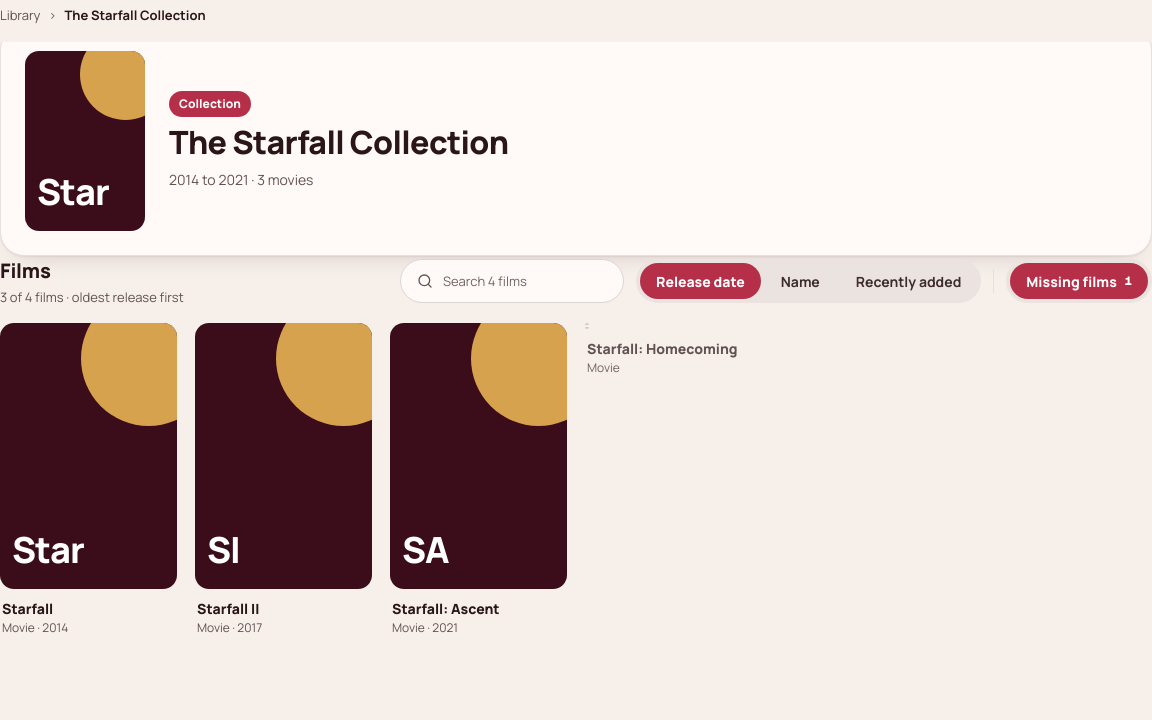
Test: FranchisePage › says when TMDB has no synopsis of a film it lacks
Click the button with aria-label "Starfall: Homecoming: coming" at (674, 350), box [585,323,762,377]
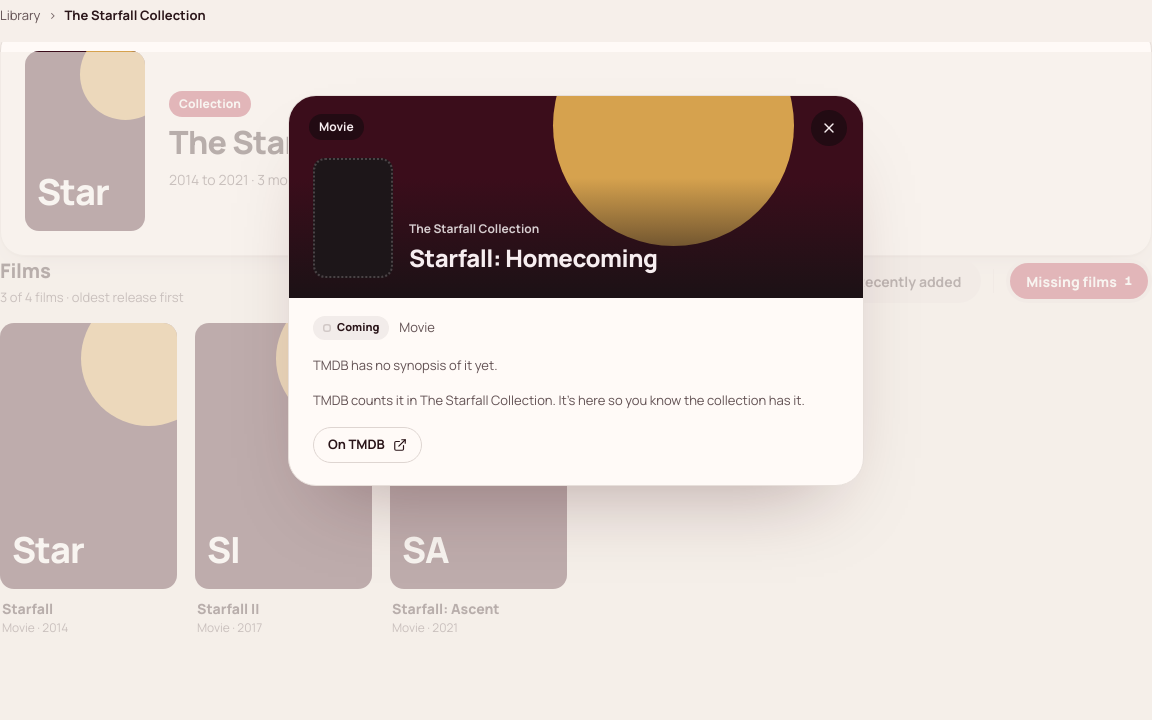
expect the dialog "Starfall: Homecoming" is shown: met, box [337,320,379,334]
expect the dialog "Starfall: Homecoming" shows "TMDB has no synopsis of it yet.": met, box [313,356,498,374]
